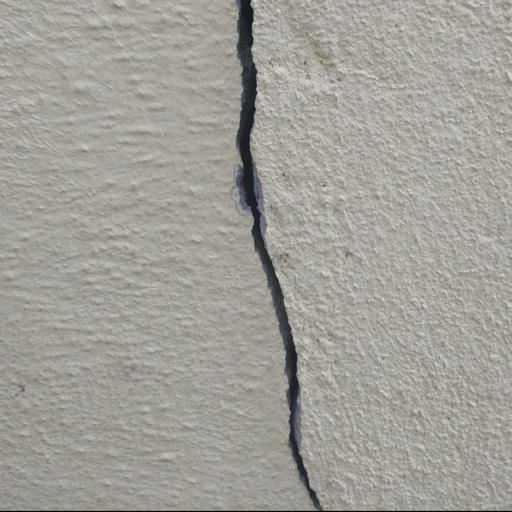major_crack: (214, 0, 341, 512)
